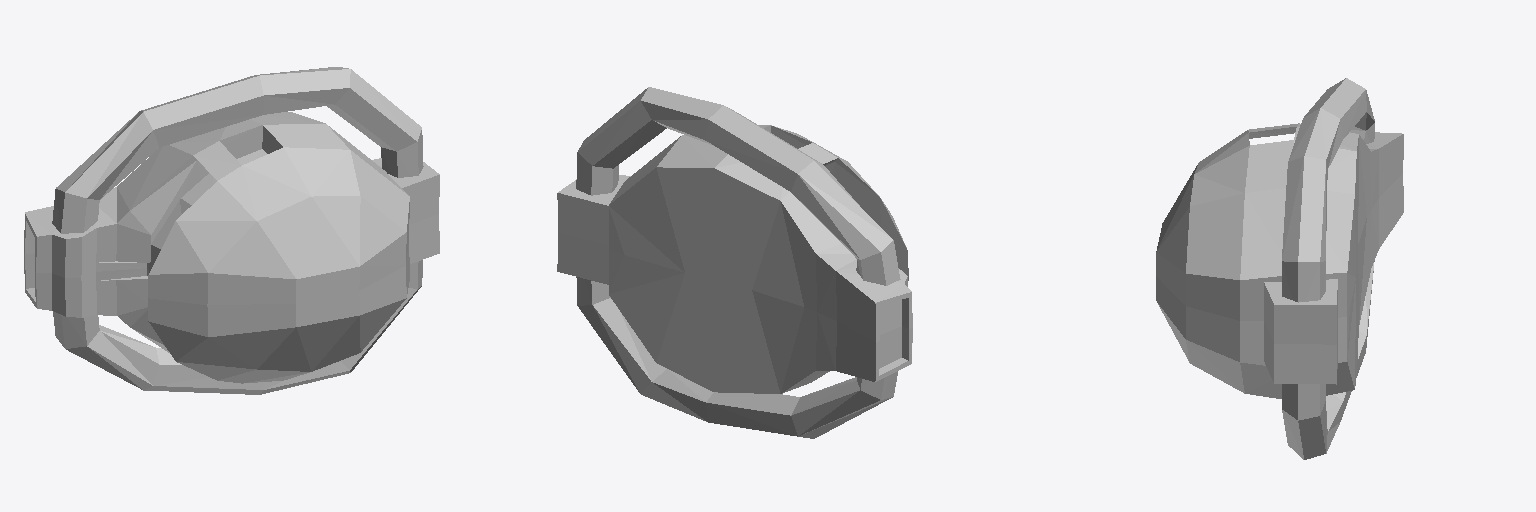
The model's file is Zaku2.obj.
3 renders of one model, left to right at view 1: azimuth 30°, elevation 25°; view 2: azimuth 150°, elevation 25°; view 3: azimuth 270°, elevation 25°, orthographic.
Parts seen in each view (by area): view 1: Head; view 2: Head; view 3: Head.
Part boxes in pixels (bbox=[...]): Head: bbox=[24, 67, 439, 394]; Head: bbox=[557, 87, 912, 438]; Head: bbox=[1156, 78, 1403, 459].
Bounding box in the file's own units: 32.76 × 27.42 × 19.25.